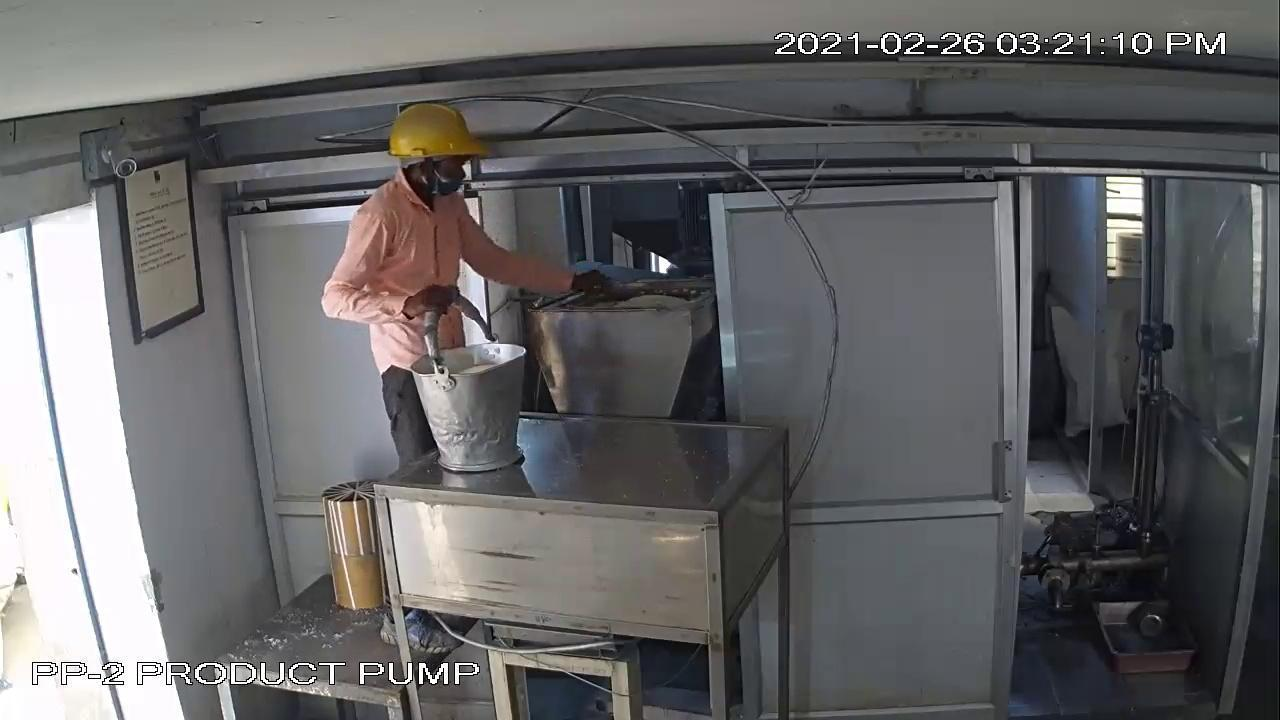helmet: (374, 96, 497, 179)
